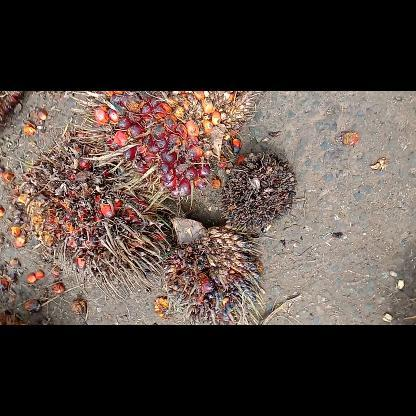TBS abnormal: (160, 214, 268, 324), (218, 150, 300, 236)
TBS masak: (66, 90, 258, 202)
Terlalu masak: (8, 126, 172, 305)
